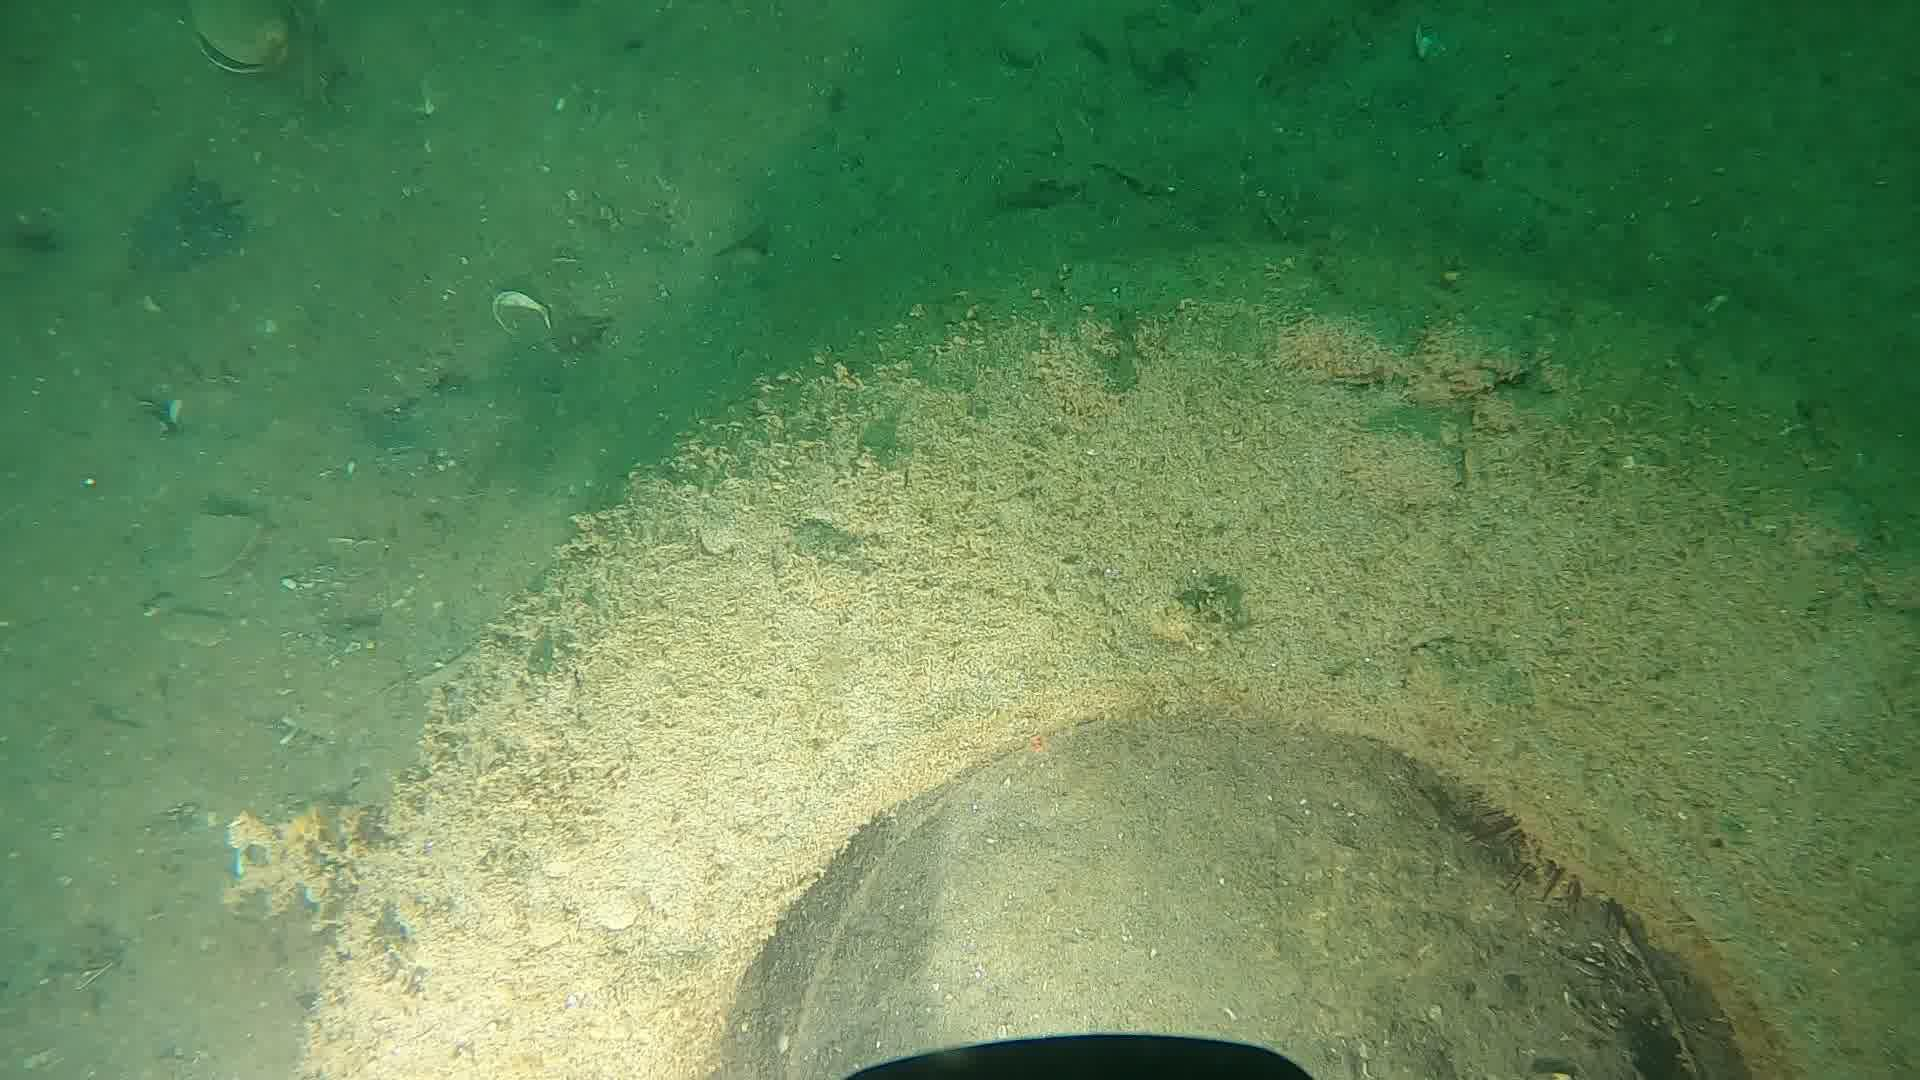tire: (297, 243, 1920, 1080)
